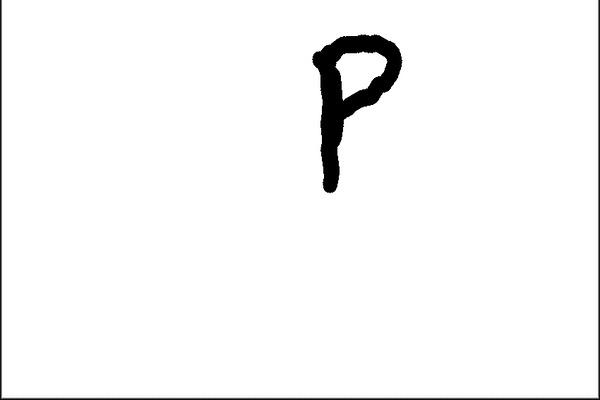P: (296, 25, 408, 200)
